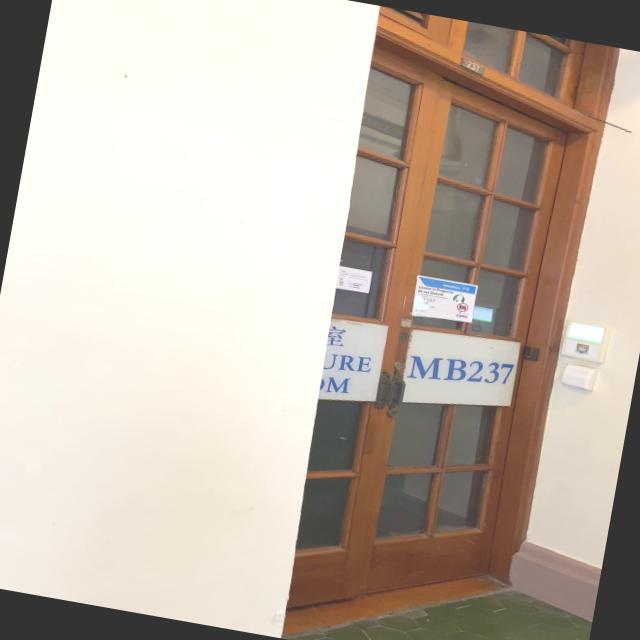room237: (453, 56, 490, 80)
room237Window: (409, 344, 515, 396)
